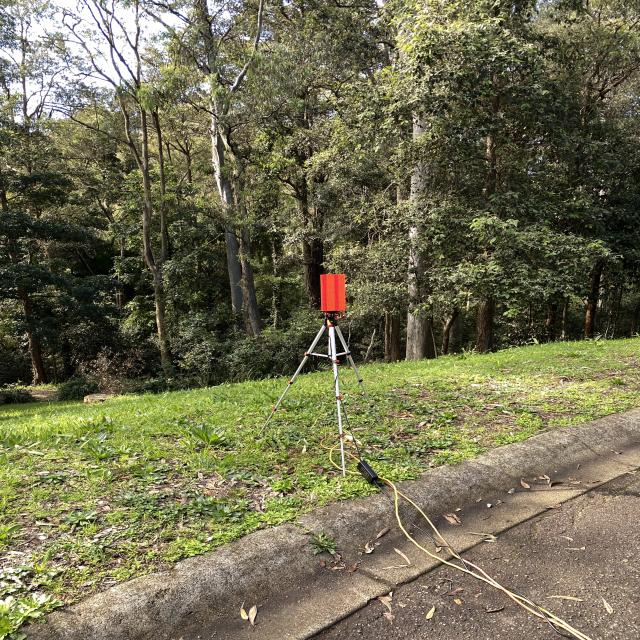matrix: (316, 270, 349, 312)
